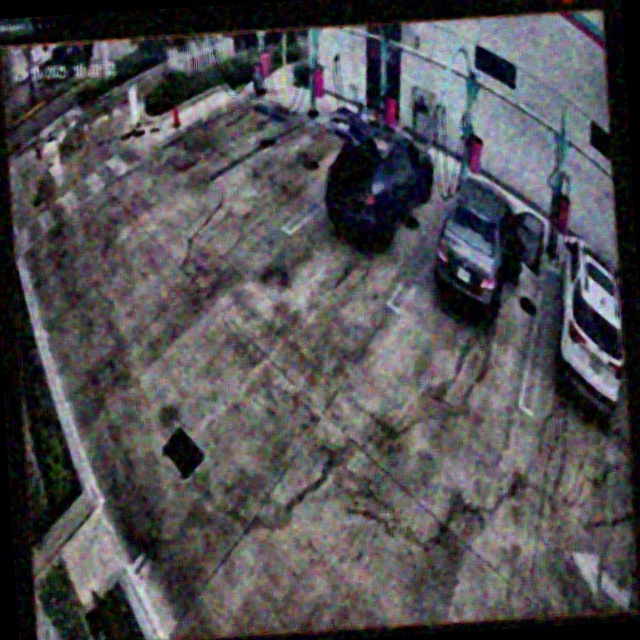Car: (430, 177, 546, 329), (325, 104, 438, 242)
